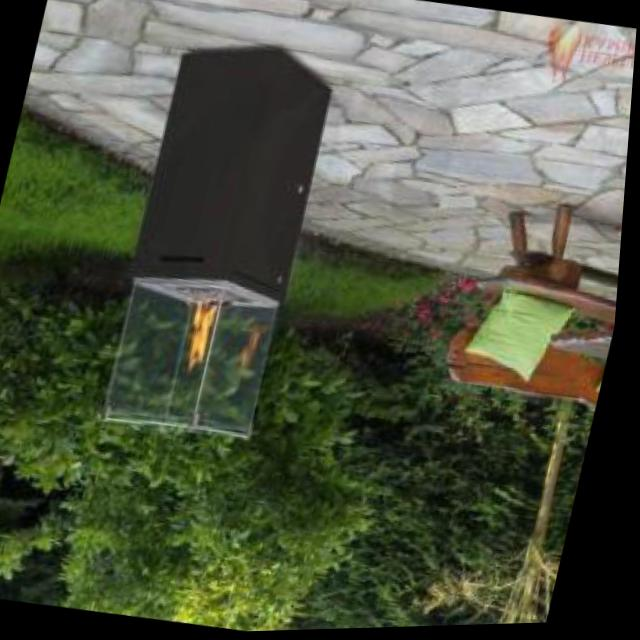Fire: (173, 278, 239, 383)
